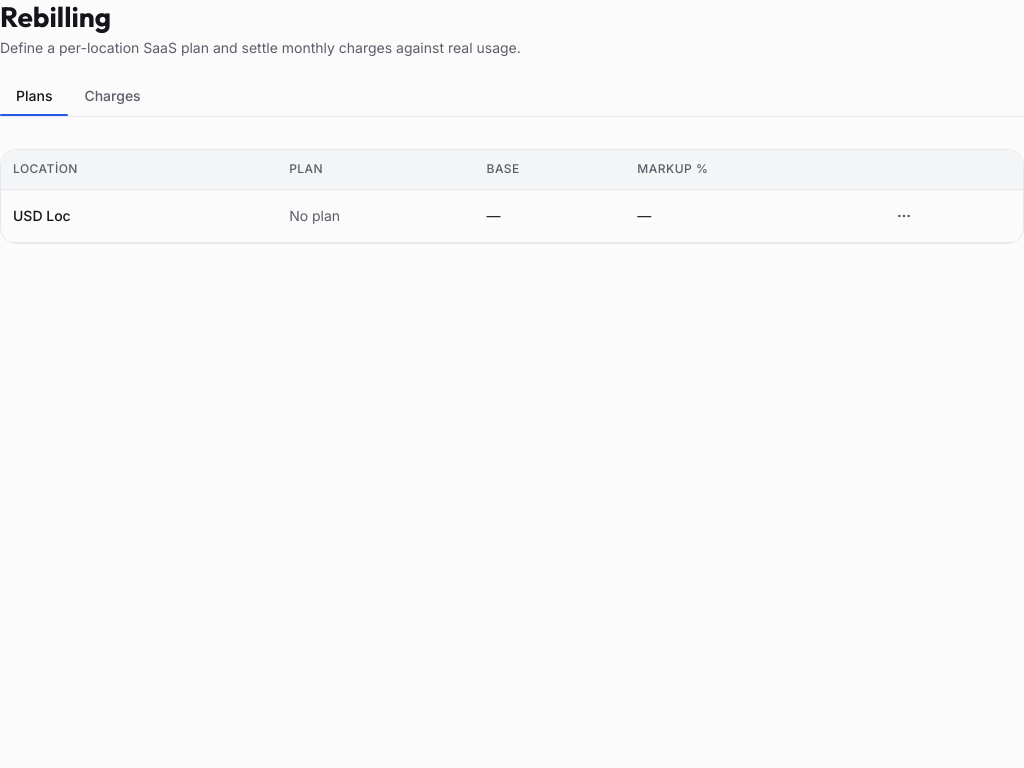
Scenario: Agency RebillingPage › shows the env-gated "rebilling not configured" state instead of crashing
Expected: the heading "Rebilling" is shown, [0,0,111,34]
Open the row action menu and pick "Compute charge".
Step 1. Click the button named "actions" → (904, 216), box [888,200,920,232]
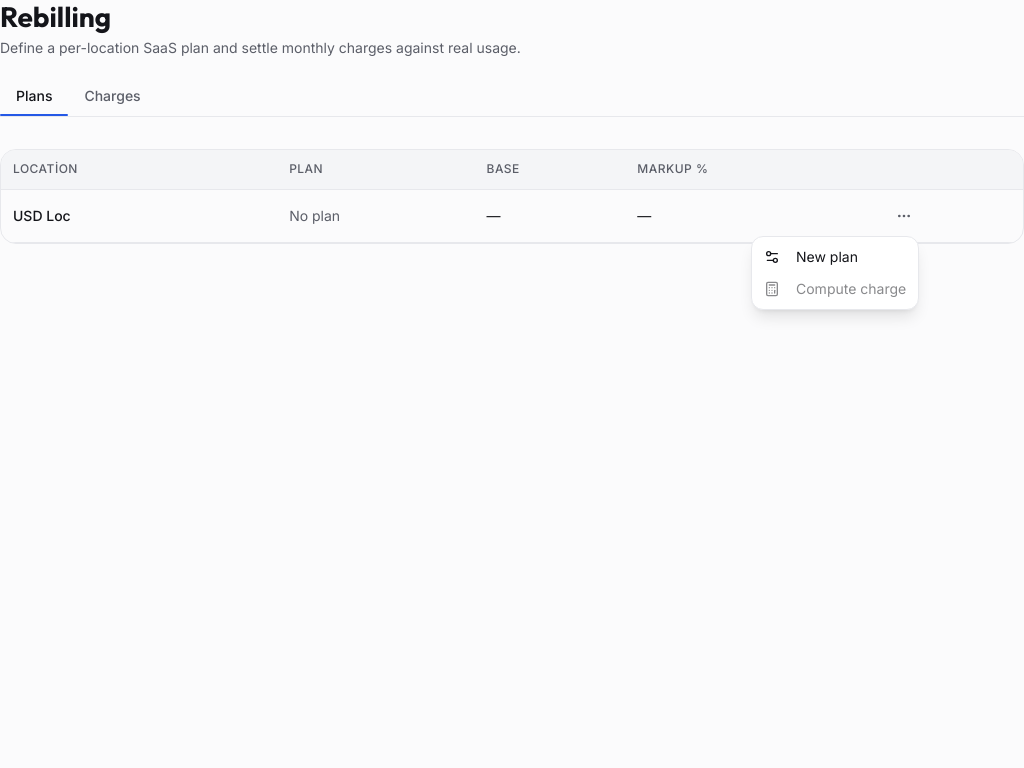
Step 2. Click the menu item "Compute charge" → (835, 288), box [764,280,906,297]
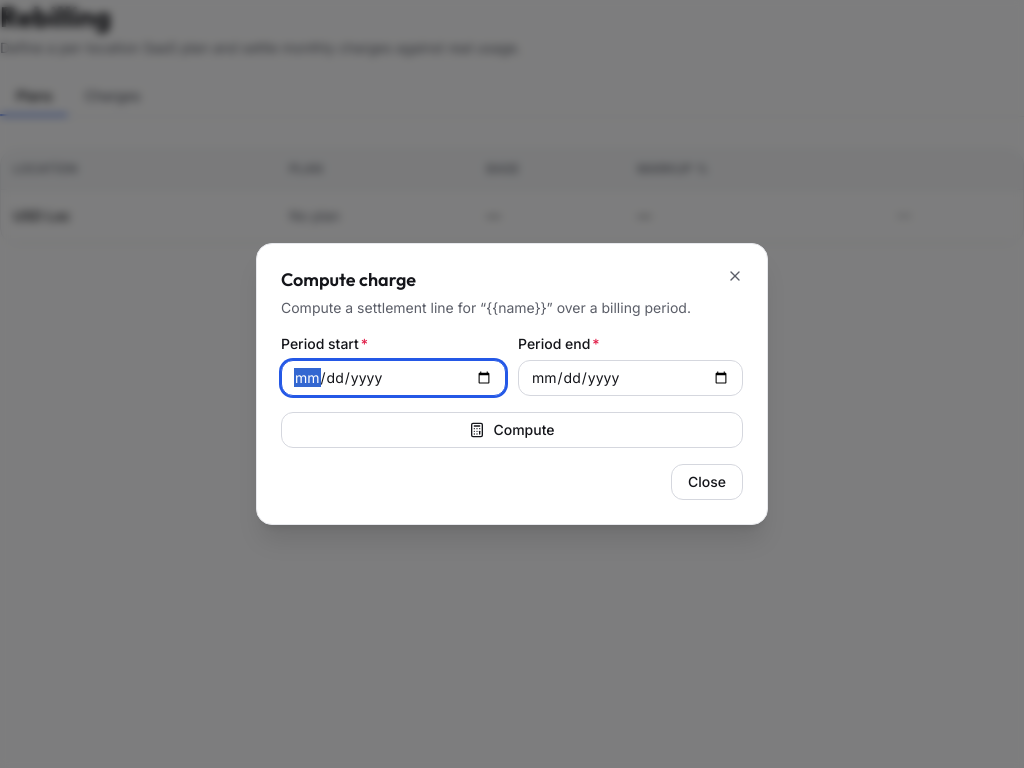
Fill the period and compute.
Step 3. Type "2026-01-01" into the date field labelled "Period start*" → (394, 378), box [281,360,506,396]
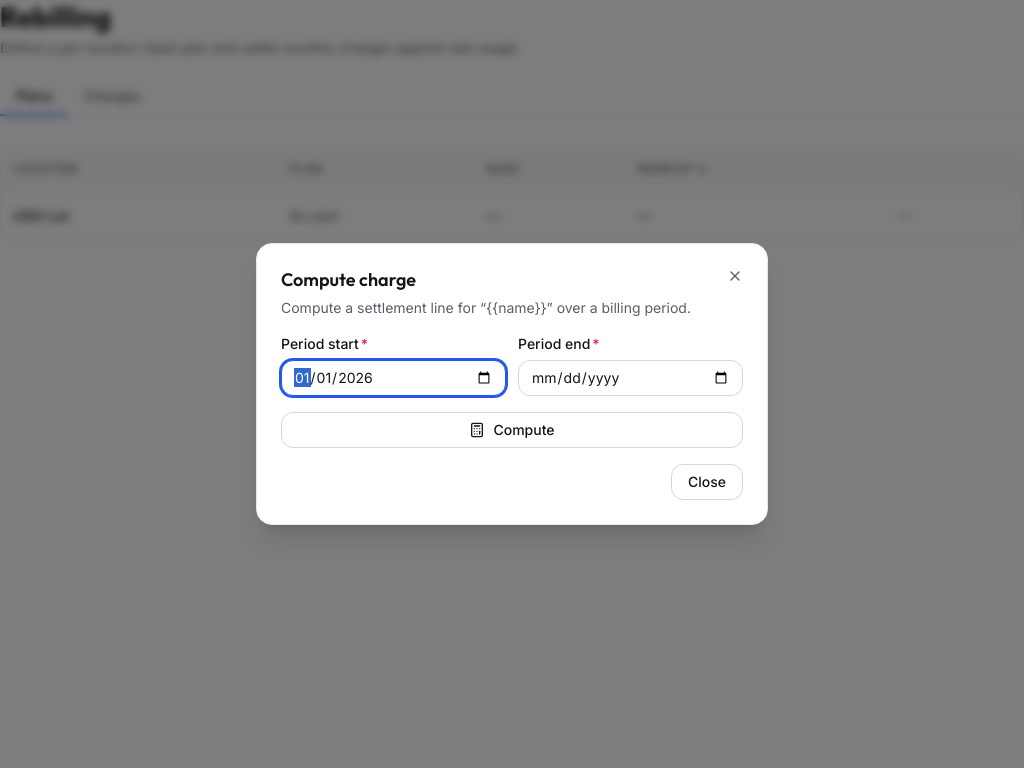
Step 4. Type "2026-02-01" into the date field labelled "Period end*" → (630, 378), box [518,360,743,396]
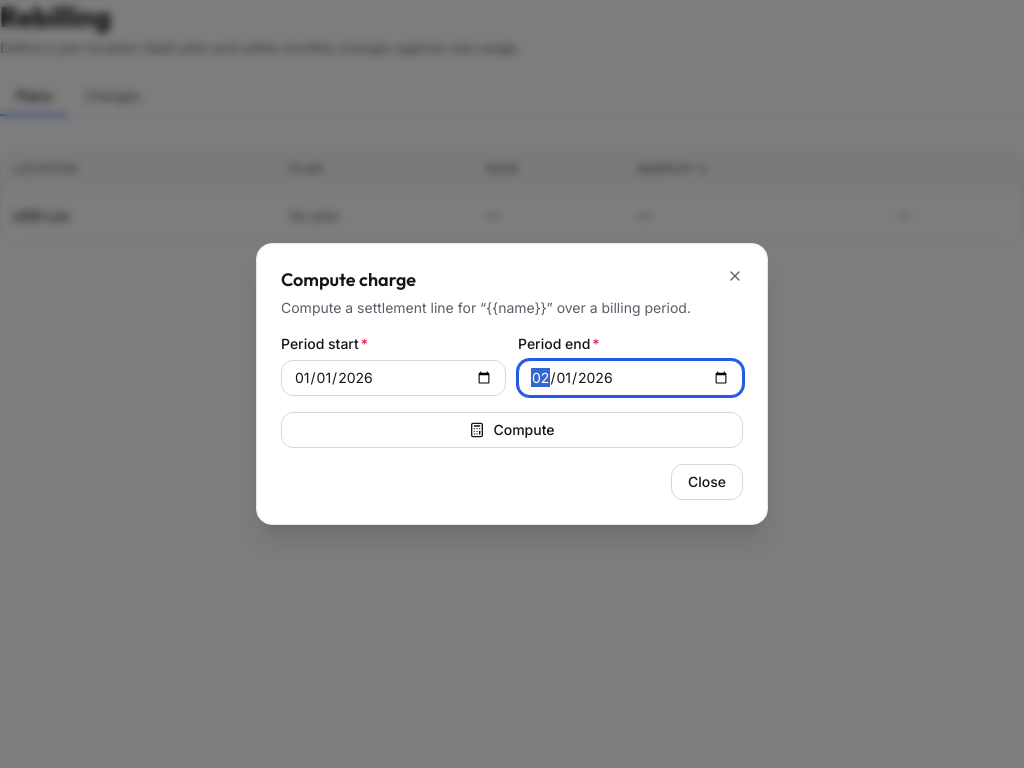
Step 5. Click the button "Compute" → (512, 430), box [281,412,743,448]
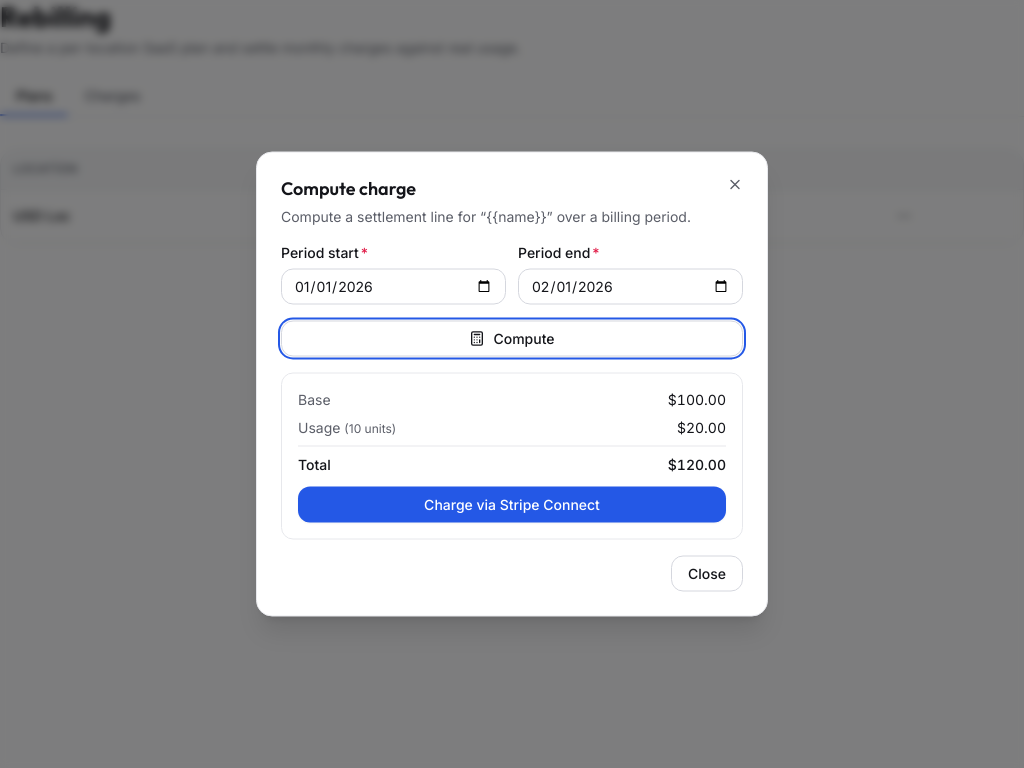
Expected: the text "$120.00" is shown, [668,454,726,474]
Step 6. Click the button "Charge via Stripe Connect" → (512, 504), box [298,486,726,522]
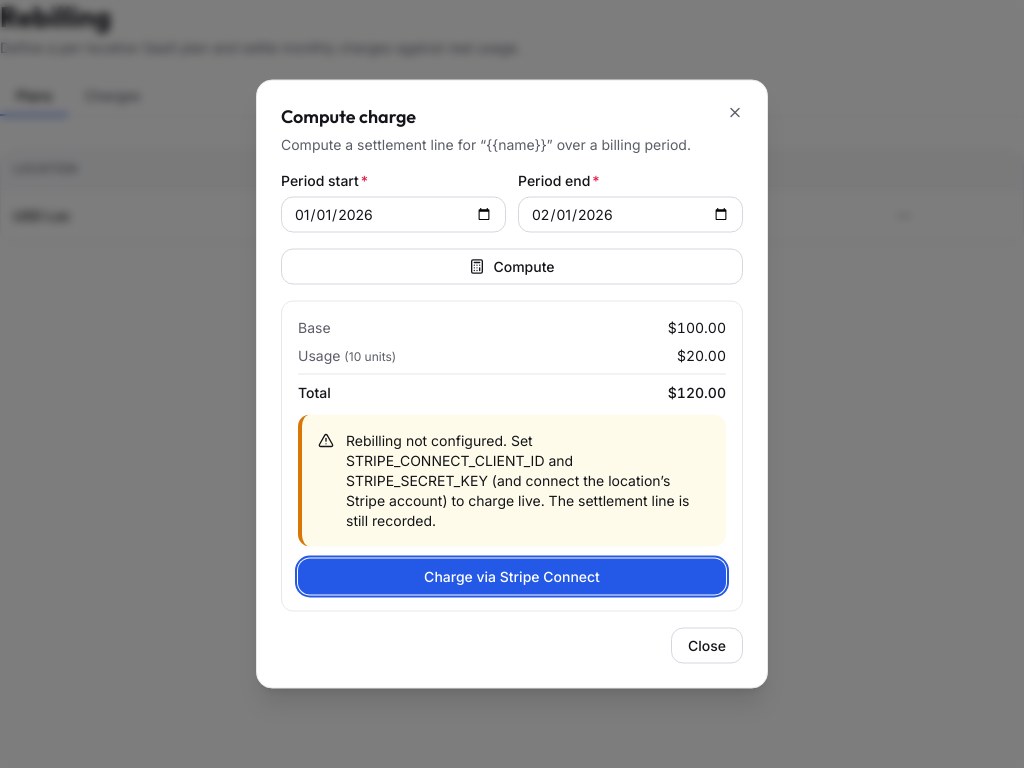
Expected: the text "Rebilling not configured" is shown, [346,432,689,528]
